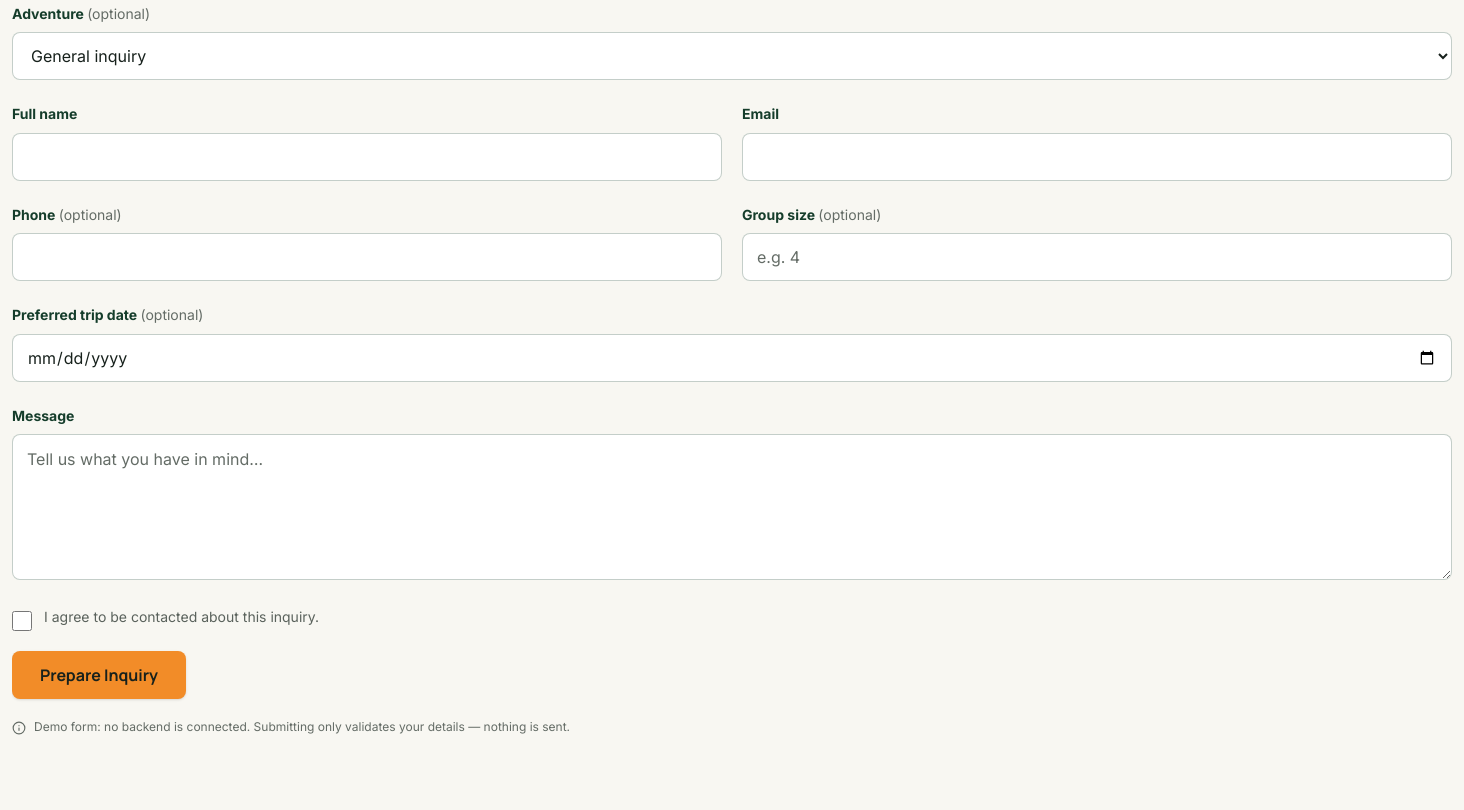
Test: ContactForm › shows accessible inline errors for empty submit
Click the button "Prepare Inquiry". click: (99, 675)
box: [12, 651, 186, 699]
(page scrolled)
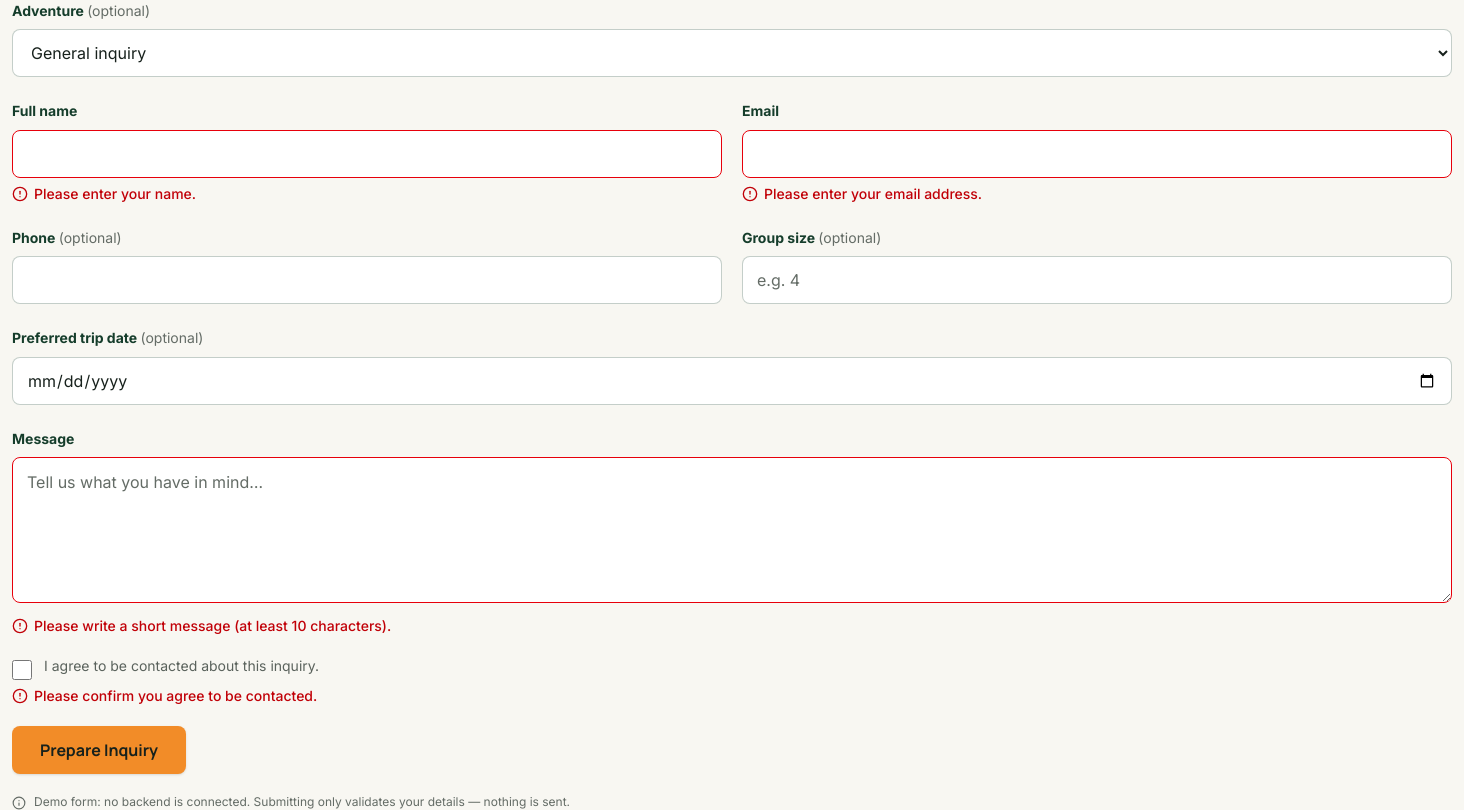
Now the element with id "name-error" is shown, box [12, 185, 196, 202]
Now the element with id "email-error" is shown, box [742, 185, 982, 202]
